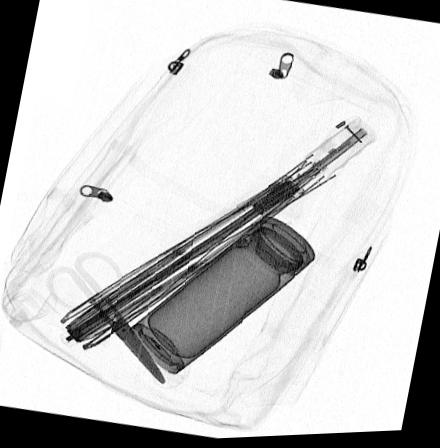Scissors: (42, 253, 165, 387)
